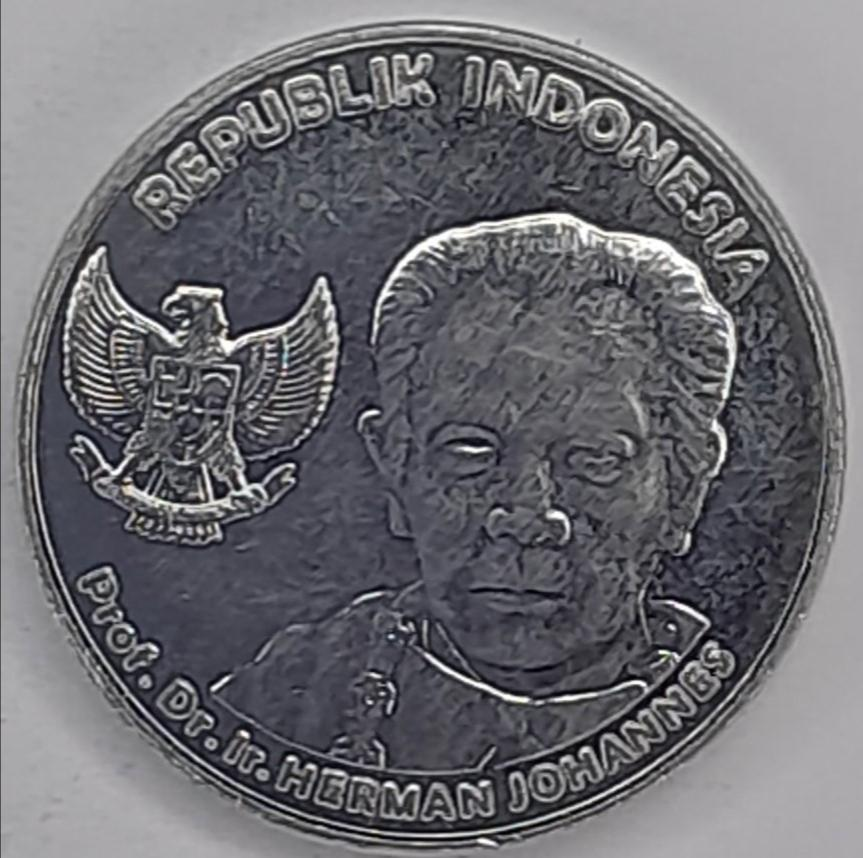coin_100_e2016: (9, 13, 852, 855)
